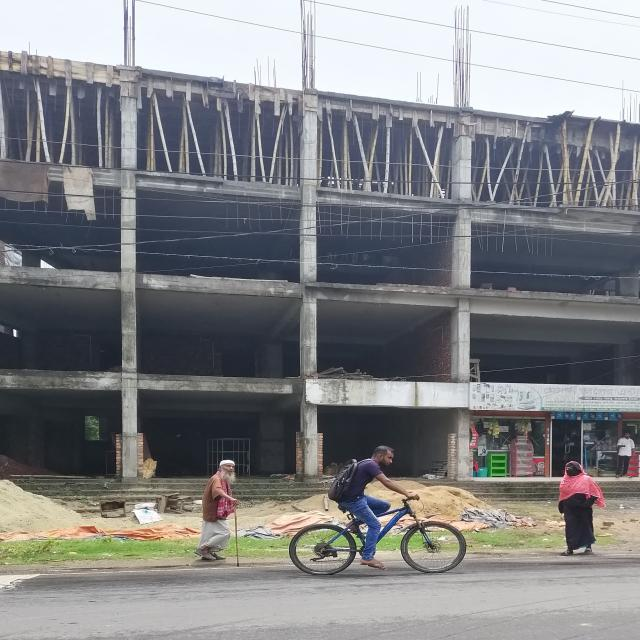Bicycle: (285, 486, 474, 577)
